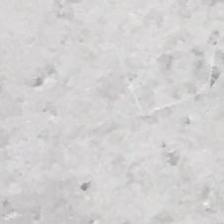Non_Crack: (29, 38, 202, 186)
